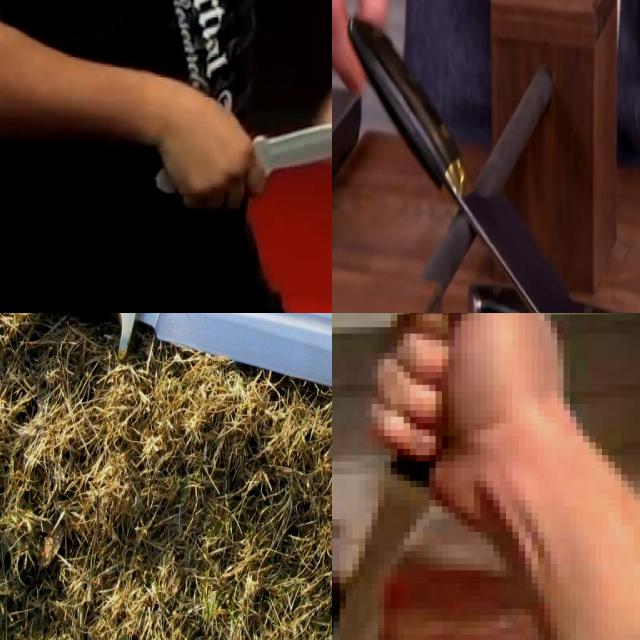Knife: (348, 19, 640, 313), (252, 122, 332, 178)
Knife_Handle: (332, 0, 638, 313), (332, 313, 532, 640), (154, 104, 332, 212)
